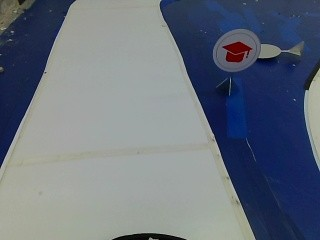school: (212, 26, 258, 74)
